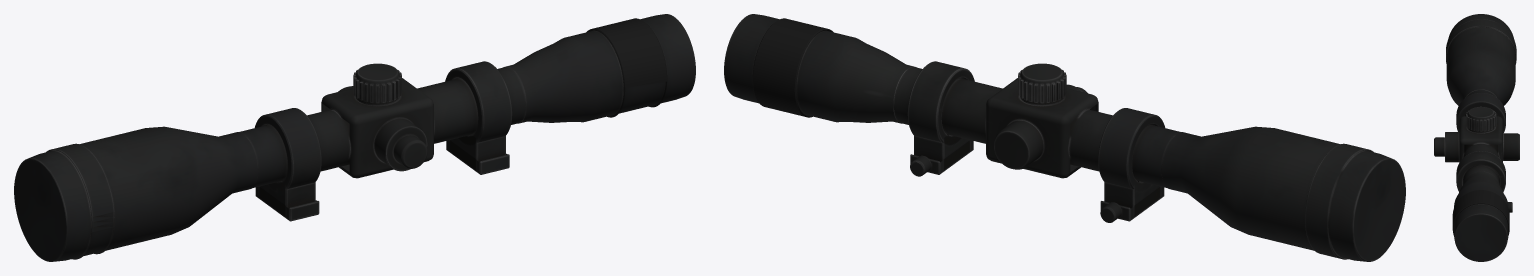
The model's file is afm107_scope_lod1.fbx.
3 renders of one model, left to right at view 1: azimuth 30°, elevation 25°; view 2: azimuth 150°, elevation 25°; view 3: azimuth 270°, elevation 25°, orthographic. The views are drawn at different scales.
Parts seen in each view (by area): view 1: M107S_LOD_1; view 2: M107S_LOD_1; view 3: M107S_LOD_1.
Boxes of the visible parts, bbox=[...] form: M107S_LOD_1: bbox=[14, 14, 695, 261]; M107S_LOD_1: bbox=[724, 14, 1405, 261]; M107S_LOD_1: bbox=[1434, 14, 1519, 261].
Bounding box in the file's own units: 38 × 7.1 × 6.4.
